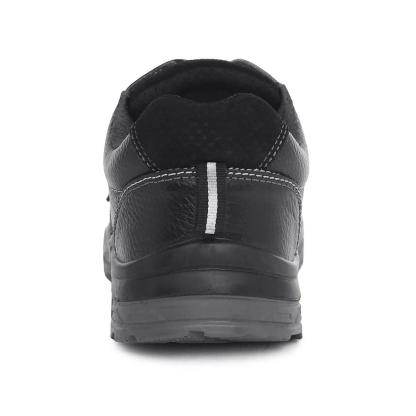bota: (98, 54, 312, 352)
